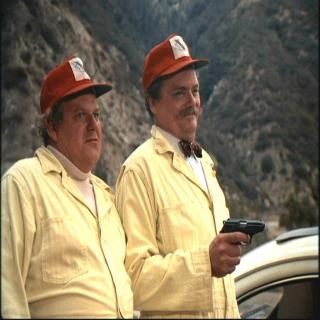gun: (215, 216, 267, 276)
